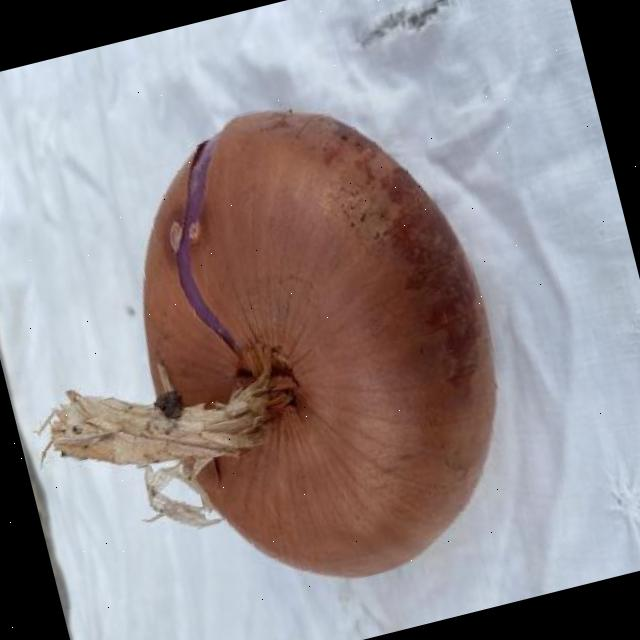Onion: (39, 111, 496, 575)
